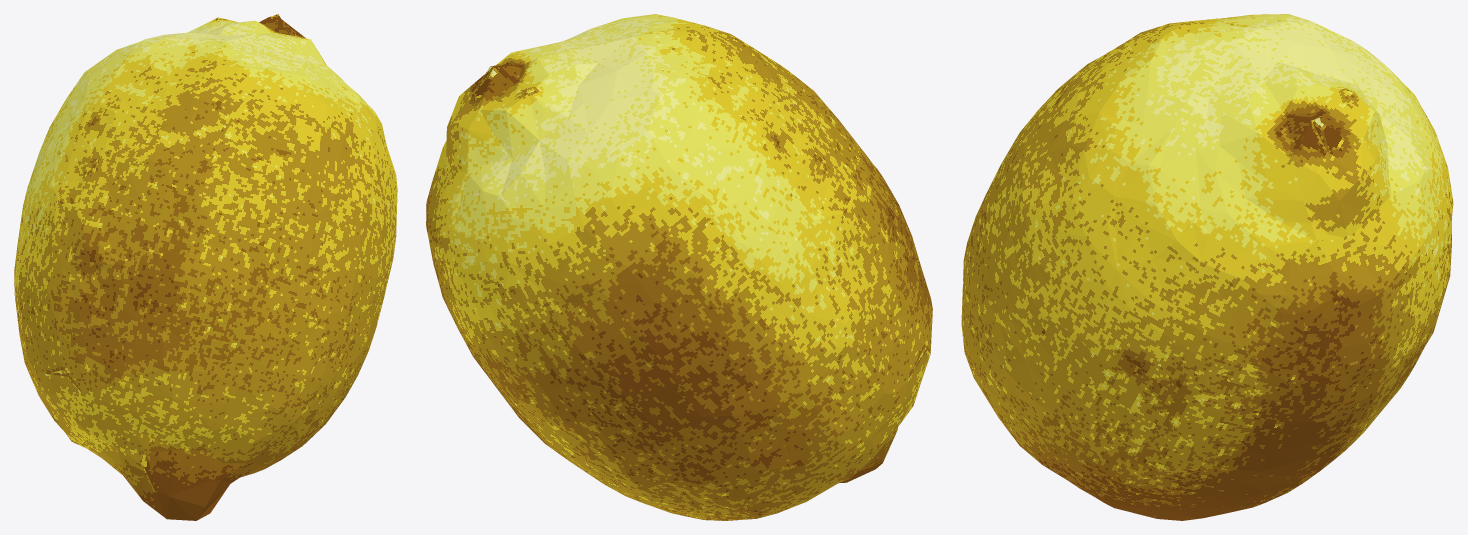
Rendered from lemon.glb.
3 renders of one model, left to right at view 1: azimuth 30°, elevation 25°; view 2: azimuth 150°, elevation 25°; view 3: azimuth 270°, elevation 25°, orthographic. The views are drawn at different scales.
Parts seen in each view (by area): view 1: model_m; view 2: model_m; view 3: model_m.
Part boxes in pixels (x1,y1,x2,y2): model_m: [14, 14, 397, 520]; model_m: [426, 14, 932, 520]; model_m: [961, 14, 1453, 520].
Bounding box in the file's own units: 27.82 × 29.9 × 27.3.
1 material, 1 textured.
